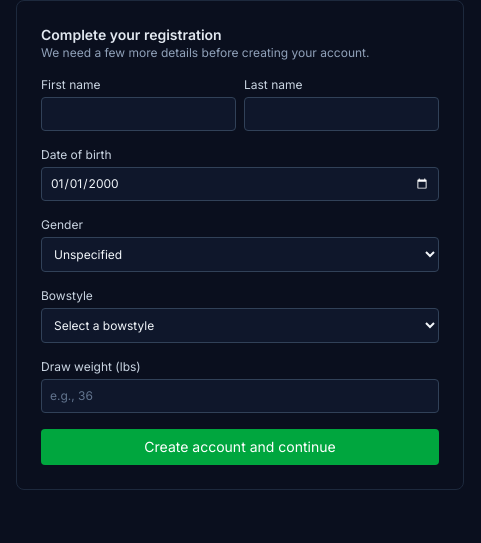
Test: authGate › shows validation error if bowstyle is missing
# Don't select bowstyle
Step 1. Type "40" into the number field labelled "Draw weight (lbs)" → x=240, y=396, box x1=41 y1=379 x2=439 y2=413
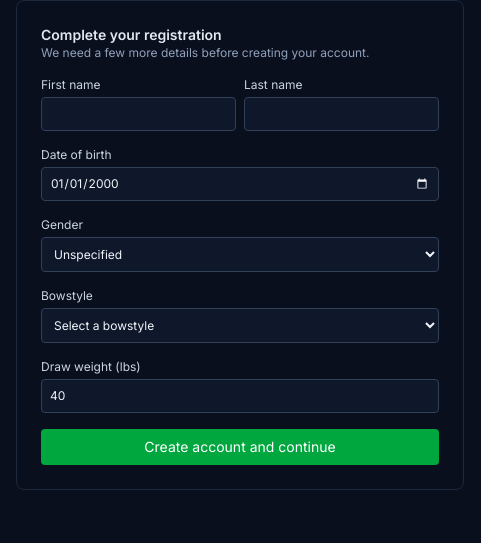
Step 2. Submit the form
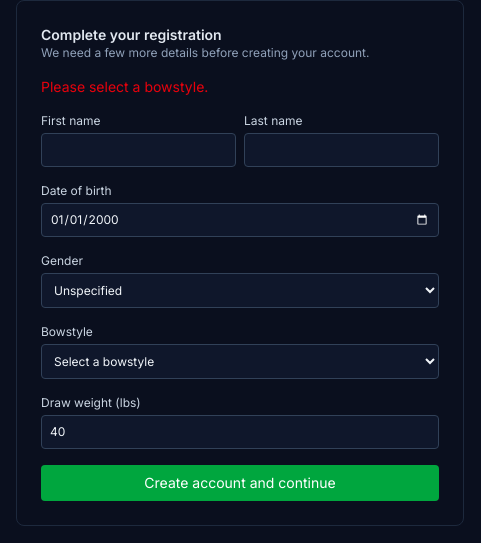
Expected: the text "Please select a bowstyle" is shown, x1=41 y1=78 x2=208 y2=95
